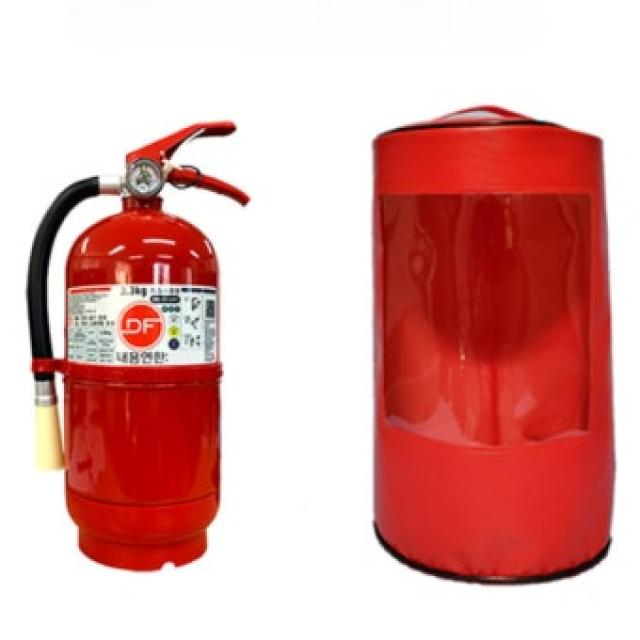pressure gauge: (124, 160, 160, 196)
